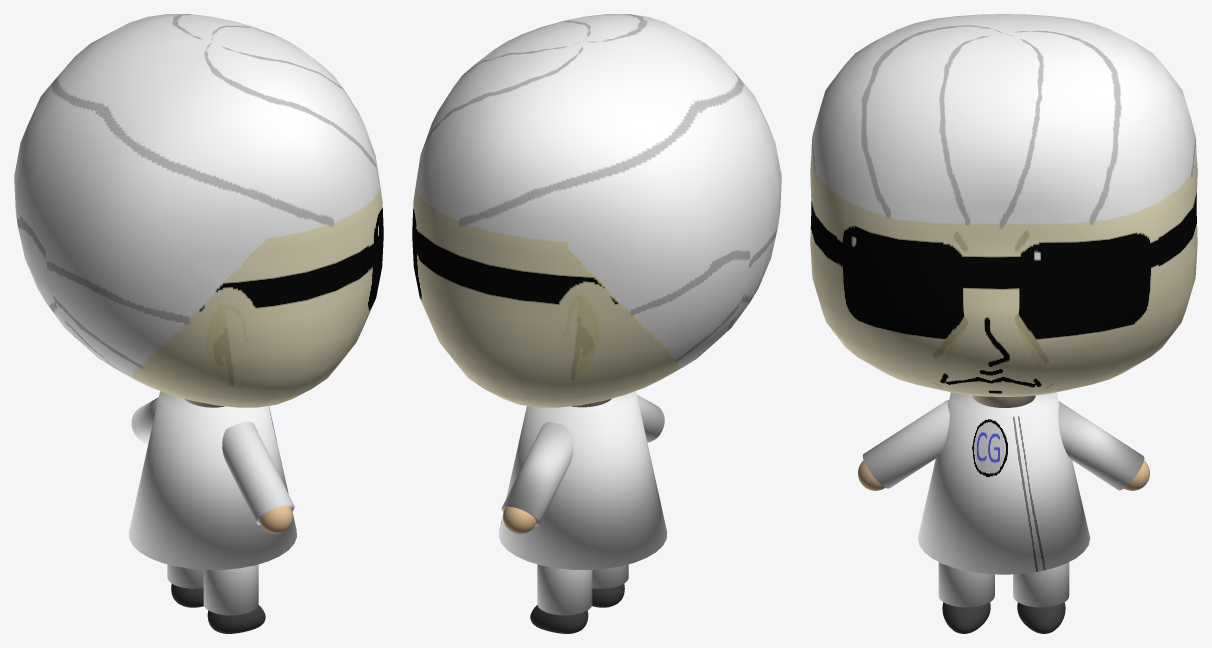
File: dragonking_moving.glb
3 views of the same model, side by side, from view 1: azimuth 30°, elevation 25°; view 2: azimuth 150°, elevation 25°; view 3: azimuth 270°, elevation 25° (orthographic). The views are drawn at different scales.
Parts seen in each view (by area): view 1: 구체, 실린더.001, 실린더.003, 실린더.002, 구체.002, 구체.001; view 2: 구체, 실린더.001, 실린더.003, 실린더.002, 구체.002, 구체.001; view 3: 구체, 실린더.001, 실린더.003, 실린더.002, 구체.002, 구체.001, 실린더.
Boxes of the visible parts, x1,y1,x2,y2 form: 구체: [14, 14, 383, 407]; 실린더.001: [128, 391, 296, 569]; 실린더.003: [131, 397, 294, 524]; 실린더.002: [167, 564, 258, 615]; 구체.002: [171, 584, 265, 633]; 구체.001: [259, 506, 292, 533]; 구체: [412, 14, 781, 407]; 실린더.001: [499, 391, 667, 569]; 실린더.003: [501, 394, 664, 526]; 실린더.002: [537, 564, 628, 615]; 구체.002: [530, 584, 624, 633]; 구체.001: [503, 433, 660, 533]; 구체: [810, 14, 1197, 396]; 실린더.001: [917, 392, 1090, 574]; 실린더.003: [862, 400, 1144, 490]; 실린더.002: [938, 562, 1069, 607]; 구체.002: [942, 602, 1065, 633]; 구체.001: [858, 460, 1149, 490]; 실린더: [972, 395, 1035, 407].
Bounding box in the file's own units: 3.3 × 5.91 × 3.53.
Materials: 7 (2 with a texture image).
